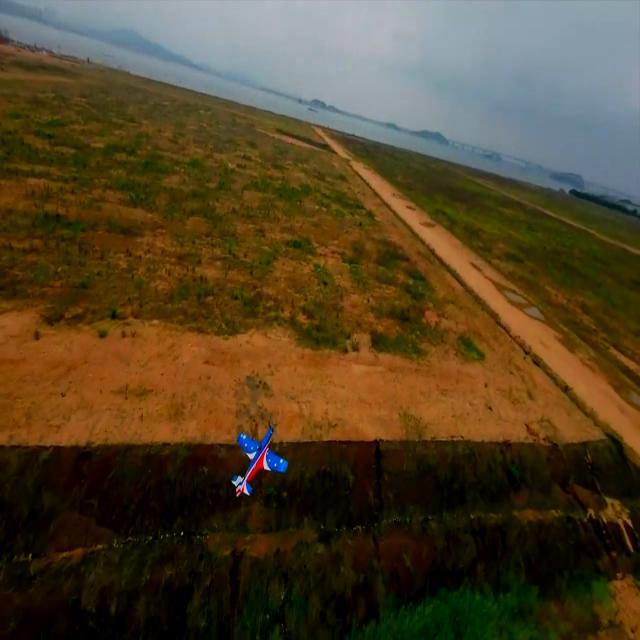iha: (244, 437, 268, 469)
